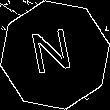N_S: (31, 26, 79, 84)
